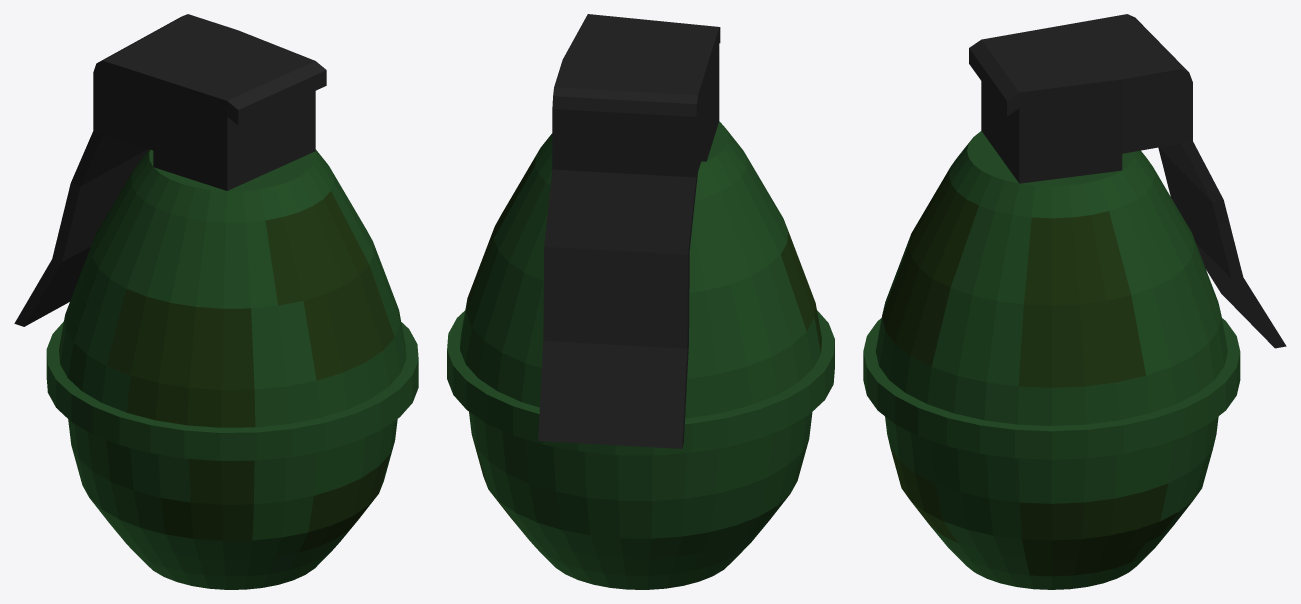
The model's file is Bomba.fbx.
3 renders of one model, left to right at view 1: azimuth 30°, elevation 25°; view 2: azimuth 150°, elevation 25°; view 3: azimuth 270°, elevation 25°, orthographic. The views are drawn at different scales.
Visible parts, largest first — view 1: Cylinder; view 2: Cylinder; view 3: Cylinder.
Boxes of the visible parts, x1=… form: Cylinder: x1=14, y1=14, x2=418, y2=589; Cylinder: x1=447, y1=14, x2=834, y2=589; Cylinder: x1=863, y1=14, x2=1286, y2=589.
Size of the model in its own units: 407 by 584 by 457.
